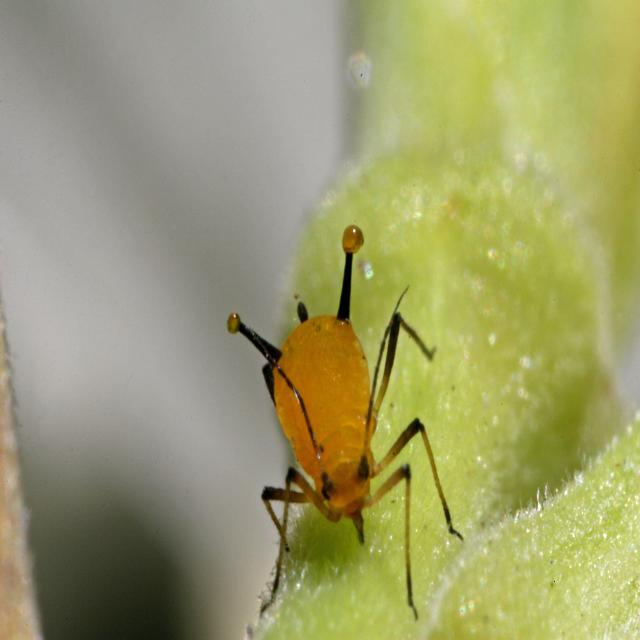Aphid-Grown-: (203, 215, 475, 595)
